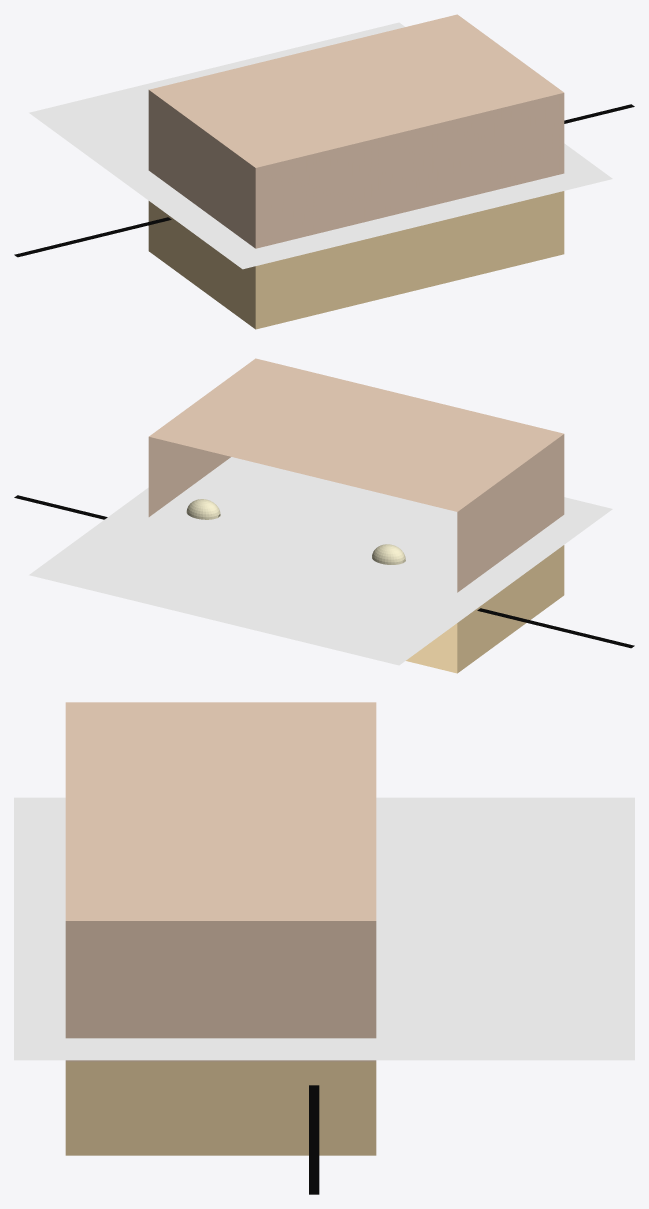
File: follicle_system.glb
The picture shows the model from 3 angles, top to bottom: view 1: azimuth 30°, elevation 25°; view 2: azimuth 150°, elevation 25°; view 3: azimuth 270°, elevation 25°; orthographic projection. The views are drawn at different scales.
Parts seen in each view (by area): view 1: SkinBlock, Skin, DermisSubcutaneousLine; view 2: Skin, SkinBlock, DermisSubcutaneousLine, NormalFollicle_SebaceousGland, InflamedFollicle_SebaceousGland; view 3: SkinBlock, Skin, DermisSubcutaneousLine.
Part boxes in pixels (bbox=[...]): SkinBlock: bbox=[148, 14, 564, 329]; Skin: bbox=[29, 22, 612, 269]; DermisSubcutaneousLine: bbox=[14, 104, 634, 257]; Skin: bbox=[29, 457, 612, 665]; SkinBlock: bbox=[148, 358, 564, 673]; DermisSubcutaneousLine: bbox=[14, 495, 634, 648]; NormalFollicle_SebaceousGland: bbox=[186, 499, 220, 519]; InflamedFollicle_SebaceousGland: bbox=[372, 544, 405, 564]; SkinBlock: bbox=[65, 702, 376, 1155]; Skin: bbox=[14, 797, 634, 1060]; DermisSubcutaneousLine: bbox=[309, 1085, 319, 1194].
Bounding box in the file's own units: 10 × 2.5 × 6.
